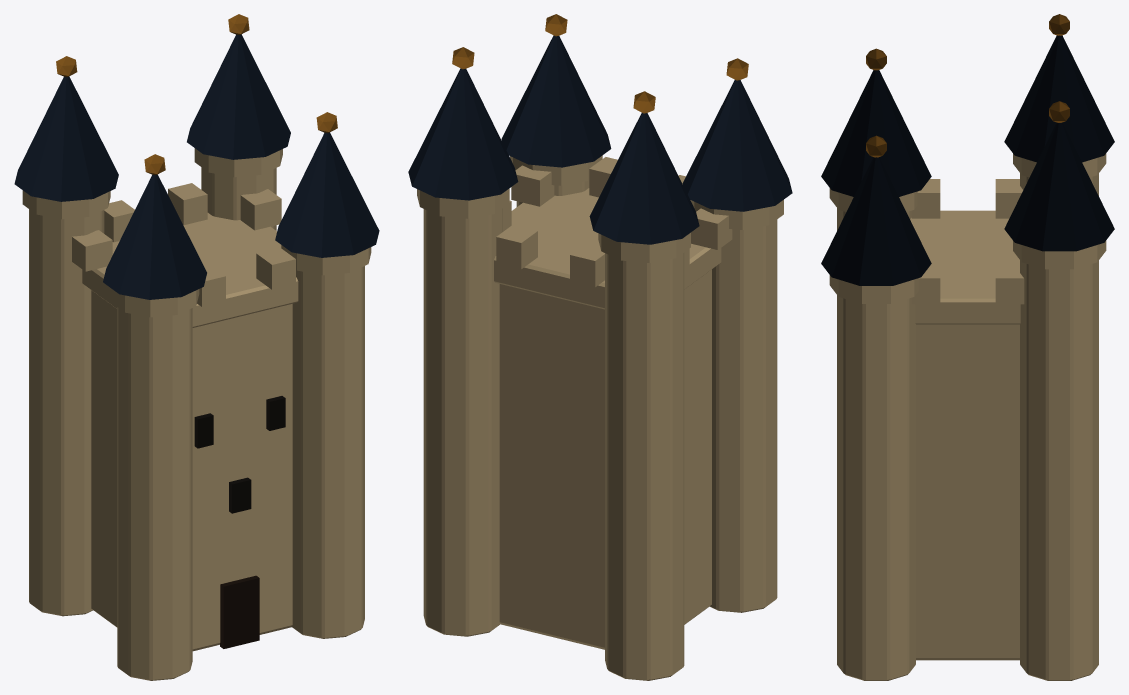
The model's file is capital.obj.
3 views of the same model, side by side, from view 1: azimuth 30°, elevation 25°; view 2: azimuth 150°, elevation 25°; view 3: azimuth 270°, elevation 25° (orthographic). The views are drawn at different scales.
Visible parts, largest first — view 1: core_stone, core_team, core_wood_dark, core_window, core_gold; view 2: core_stone, core_team, core_gold; view 3: core_stone, core_team, core_gold.
Part boxes in pixels (x1,y1,x2,y2): core_stone: (22, 148, 371, 680); core_team: (14, 34, 379, 299); core_wood_dark: (220, 575, 259, 648); core_window: (194, 396, 285, 513); core_gold: (56, 14, 337, 175); core_stone: (417, 155, 783, 680); core_team: (408, 35, 792, 244); core_gold: (452, 14, 748, 113); core_stone: (829, 153, 1106, 680); core_team: (821, 35, 1114, 285); core_gold: (866, 14, 1069, 157).
Bounding box in the file's own units: 0.3263 × 0.653 × 0.308.
